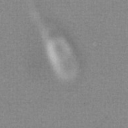normal: (26, 1, 54, 39)
